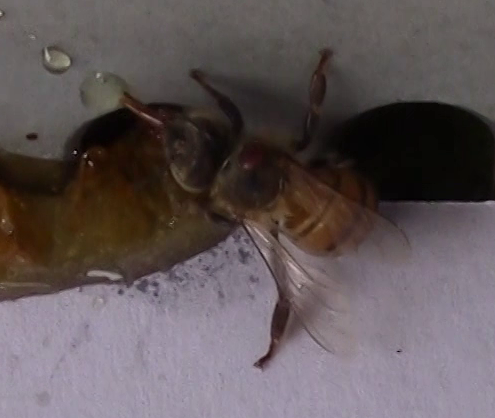Varroa destructor: (234, 141, 268, 172)
